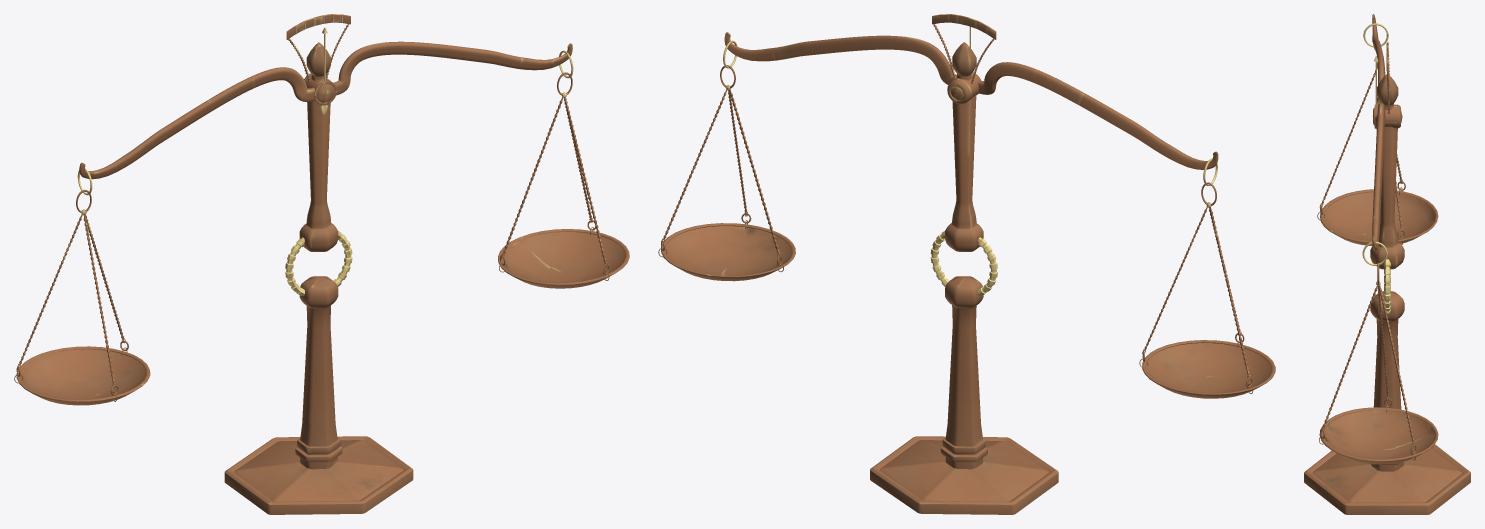
File: balance.glb
3 renders of one model, left to right at view 1: azimuth 30°, elevation 25°; view 2: azimuth 150°, elevation 25°; view 3: azimuth 270°, elevation 25°, orthographic. The views are drawn at different scales.
Visible parts, largest first — view 1: Object_6; view 2: Object_6; view 3: Object_6.
Boxes of the visible parts, left/top/right/bottom form: Object_6: left=14, top=14, right=629, bottom=514; Object_6: left=658, top=14, right=1275, bottom=514; Object_6: left=1304, top=14, right=1470, bottom=514.
Size of the model in its own units: 135 by 100 by 35.
1 material, 1 textured.
